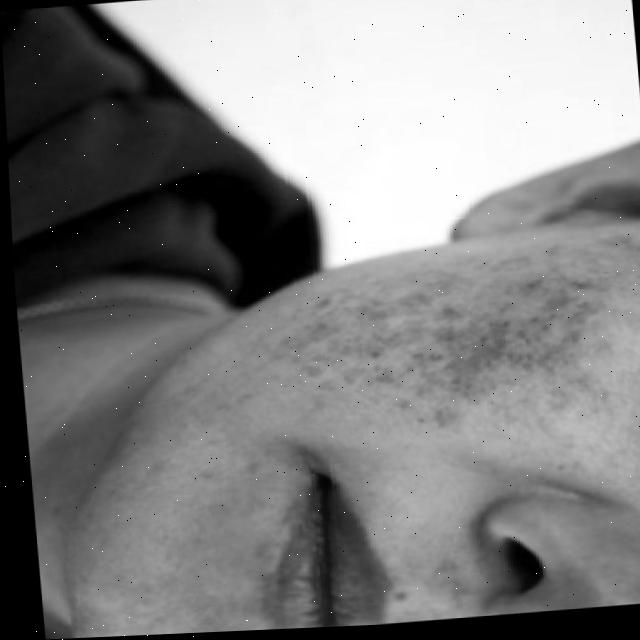Melasma: (265, 246, 602, 421)
